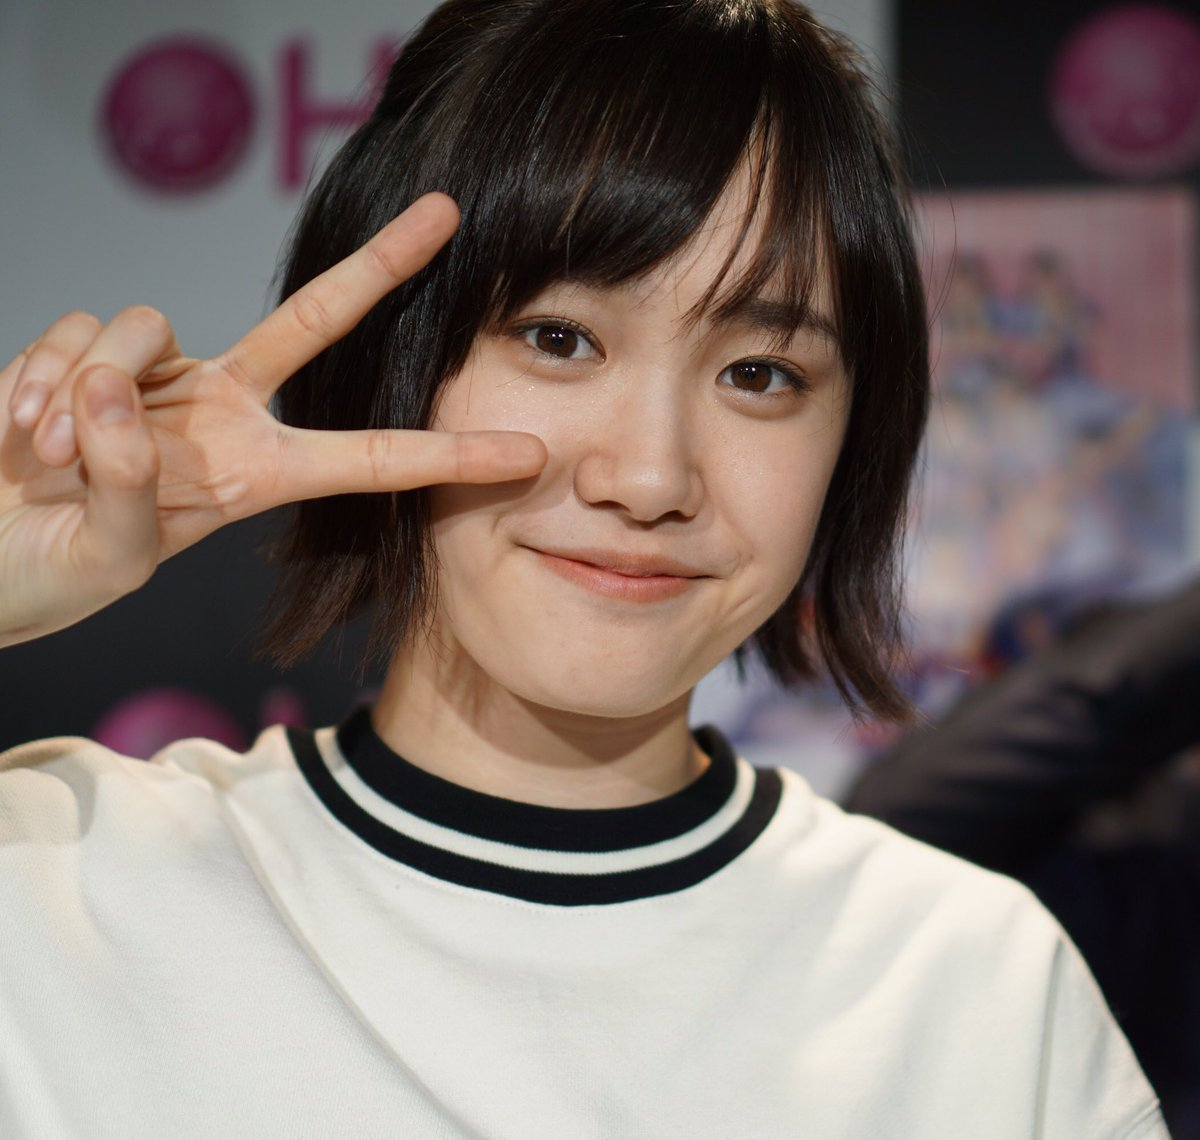face: (421, 127, 858, 721)
hand: (1, 191, 550, 647)
